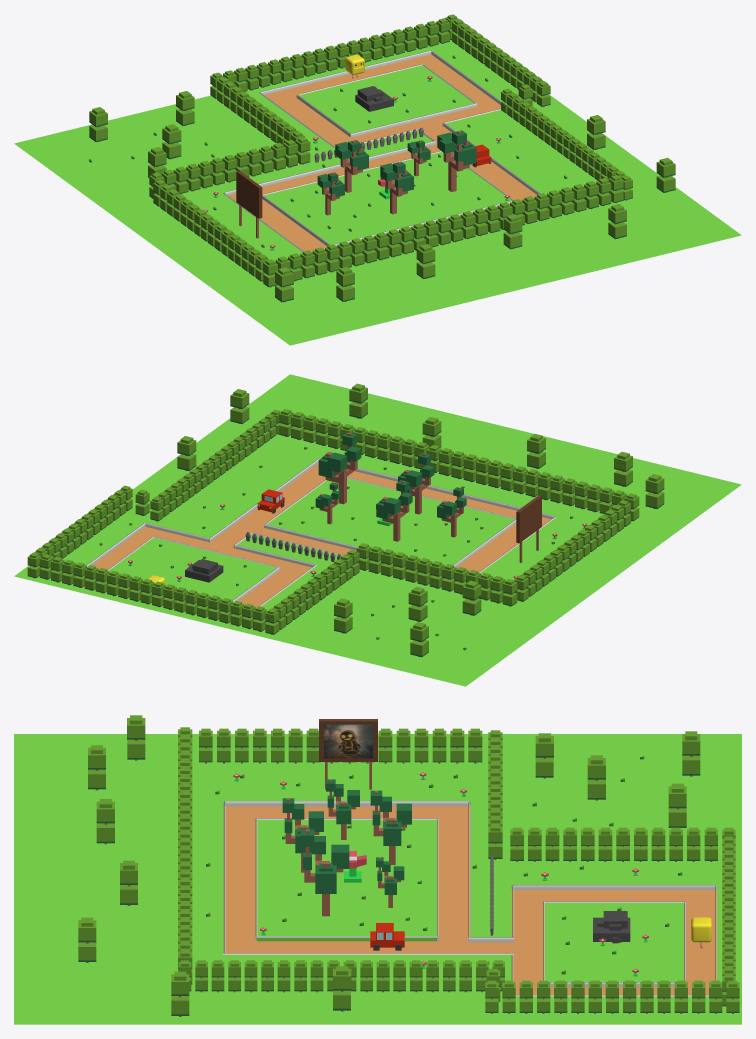
File: 3jsWorld.glb
3 views of the same model, one above another, from view 1: azimuth 30°, elevation 25°; view 2: azimuth 150°, elevation 25°; view 3: azimuth 270°, elevation 25° (orthographic). The views are drawn at different scales.
Parts seen in each view (by area): view 1: level, project1; view 2: level, project1; view 3: level, project1, Character.
Boxes of the visible parts, x1,y1,x2,y2 form: level: [14, 14, 741, 345]; project1: [236, 170, 262, 238]; level: [14, 374, 741, 686]; project1: [516, 495, 541, 562]; level: [14, 715, 741, 1024]; project1: [319, 719, 377, 789]; Character: [691, 917, 711, 948].
Size of the model in its own units: 373 by 52.72 by 395.
22 materials, 1 textured.
